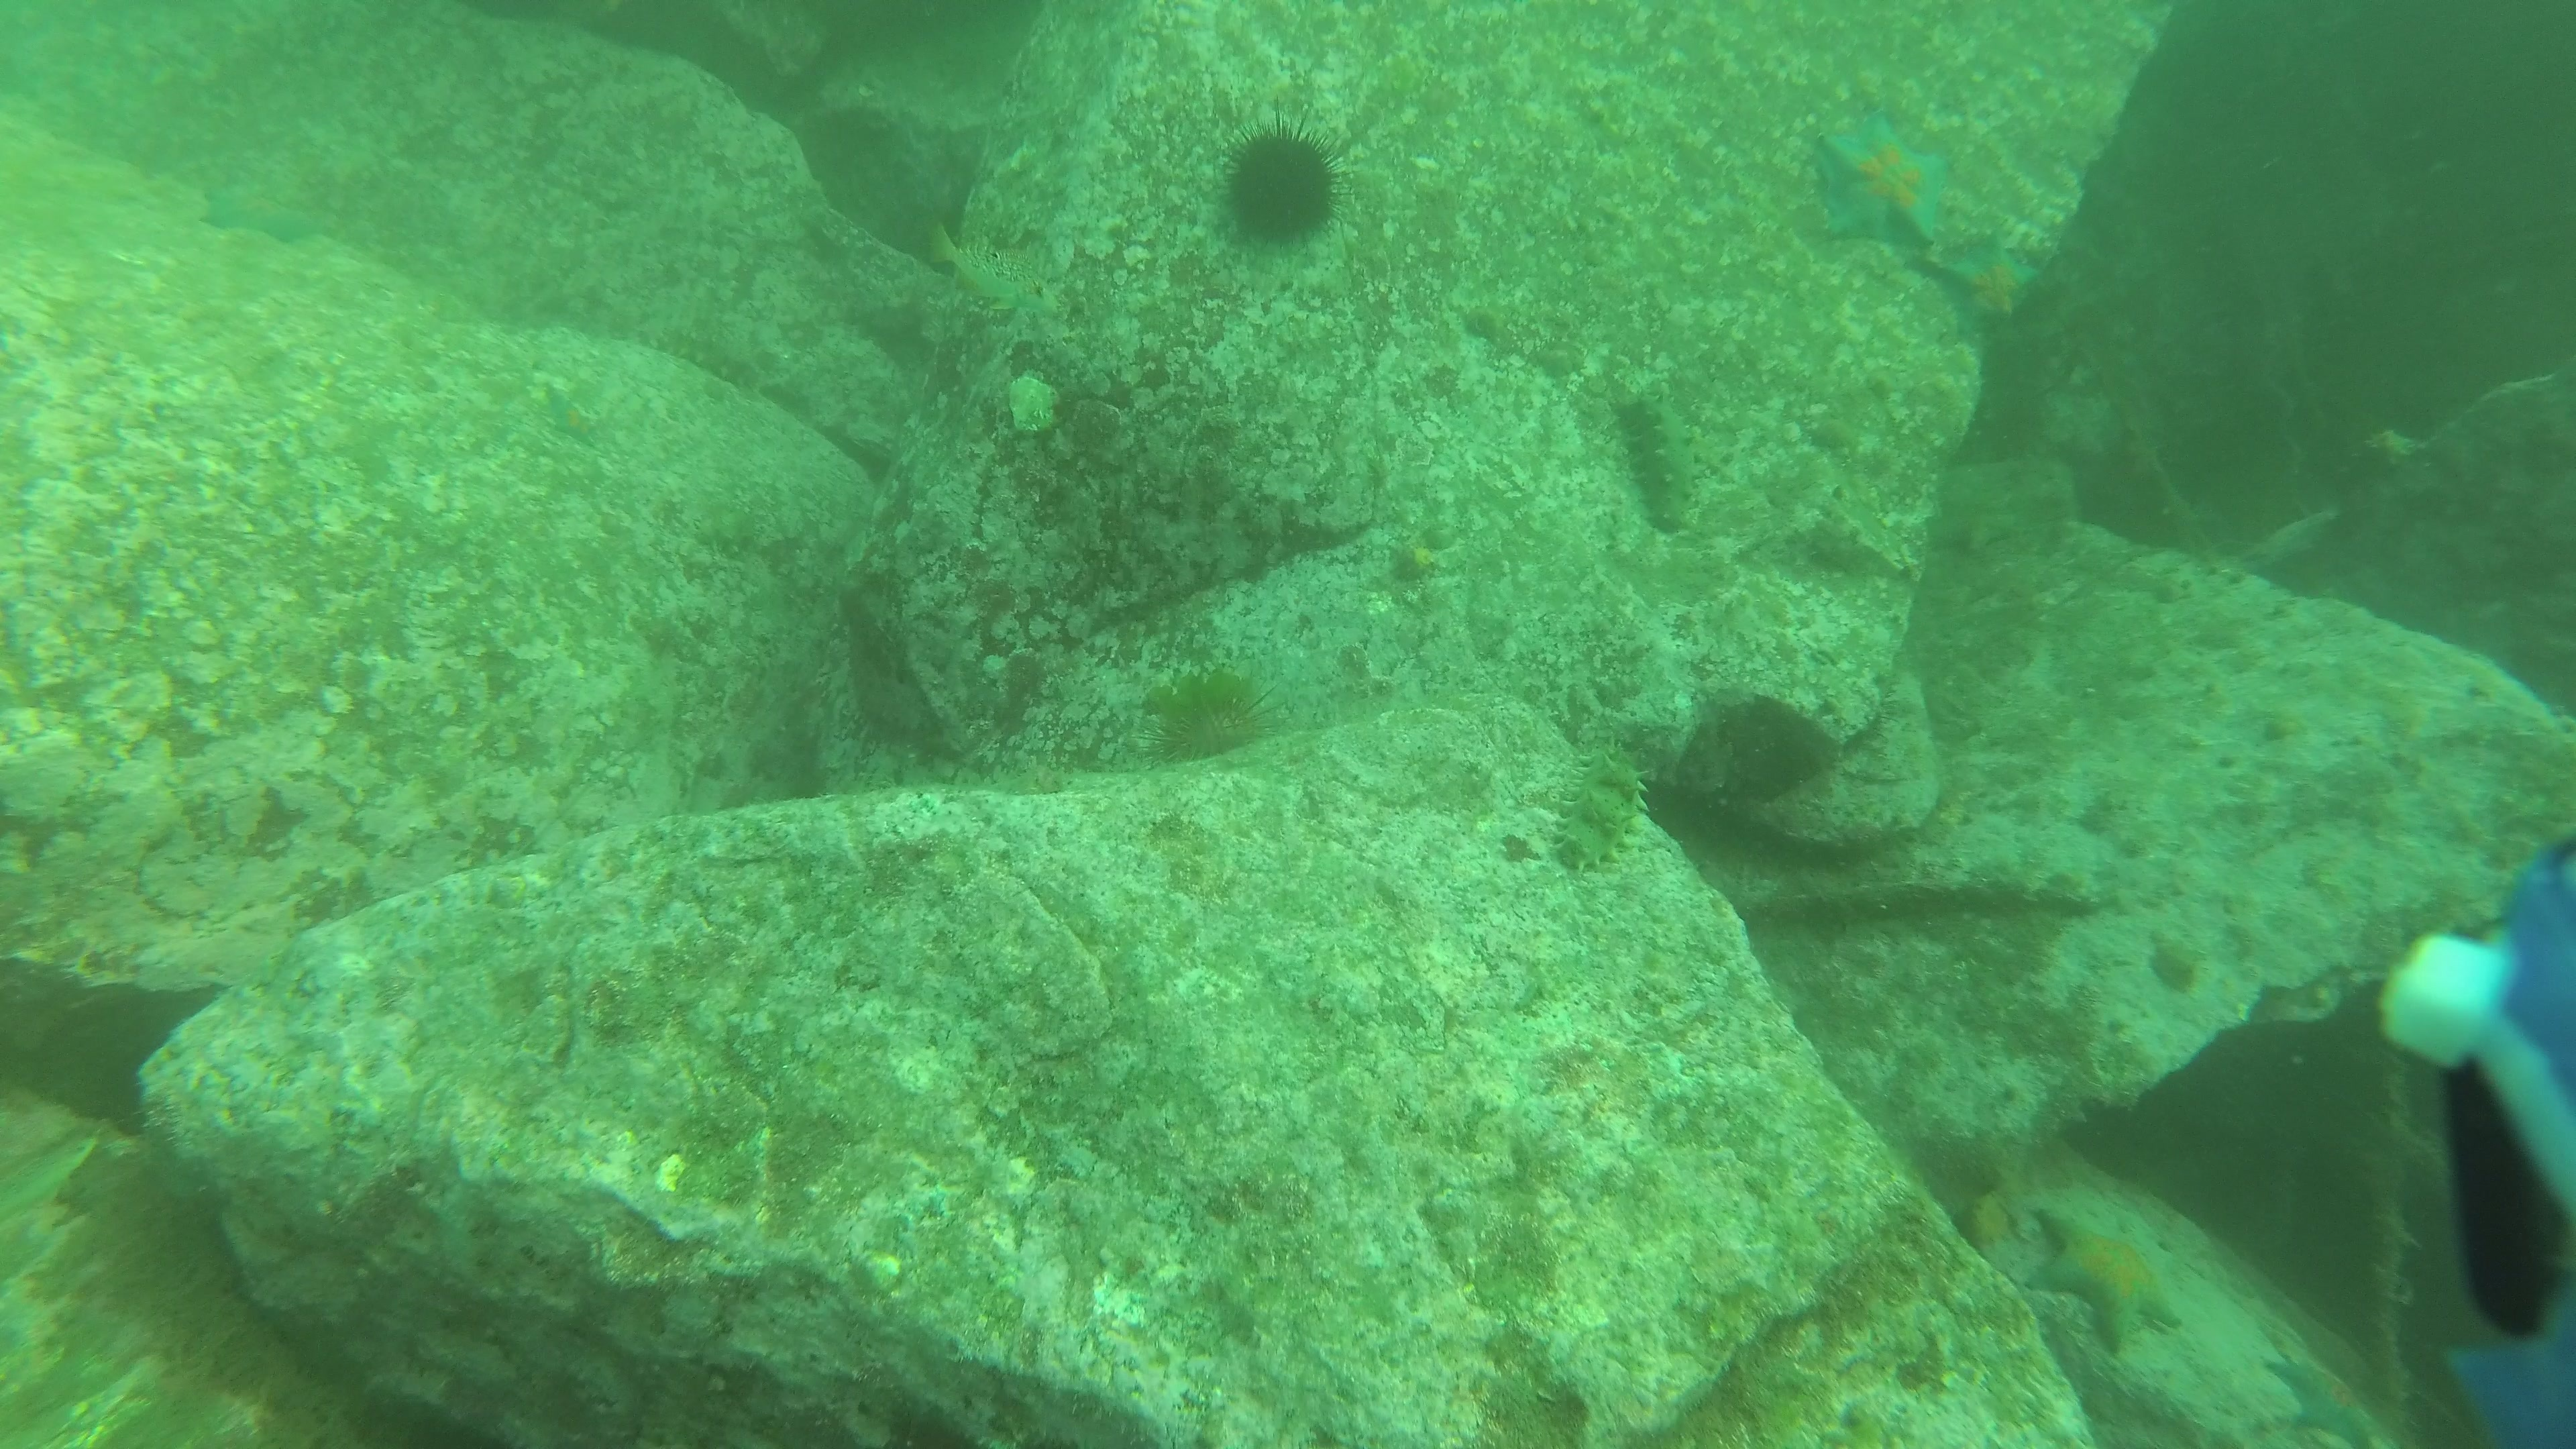echinus: (1208, 106, 1359, 267), (1134, 671, 1295, 775)
holothurian: (1546, 724, 1660, 885), (1608, 373, 1711, 545), (635, 308, 755, 387)
starfish: (2017, 1201, 2185, 1359), (1815, 106, 1955, 255), (1923, 223, 2049, 338), (2259, 1343, 2387, 1449), (195, 180, 326, 248)
